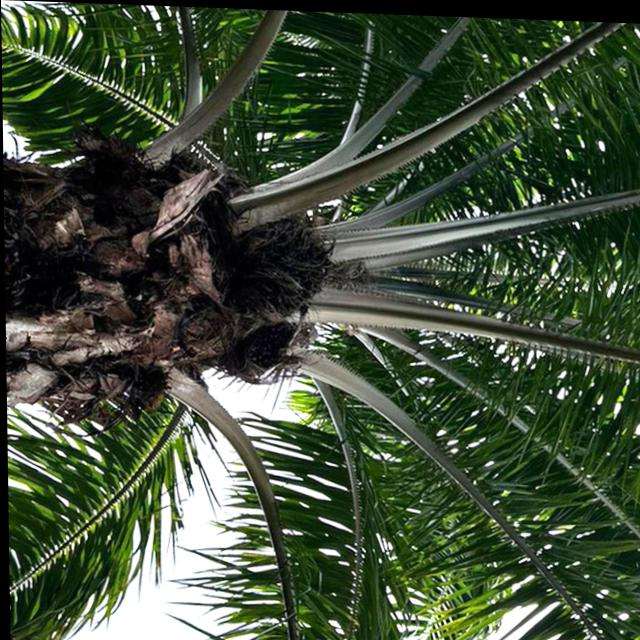almost: (217, 211, 338, 322)
